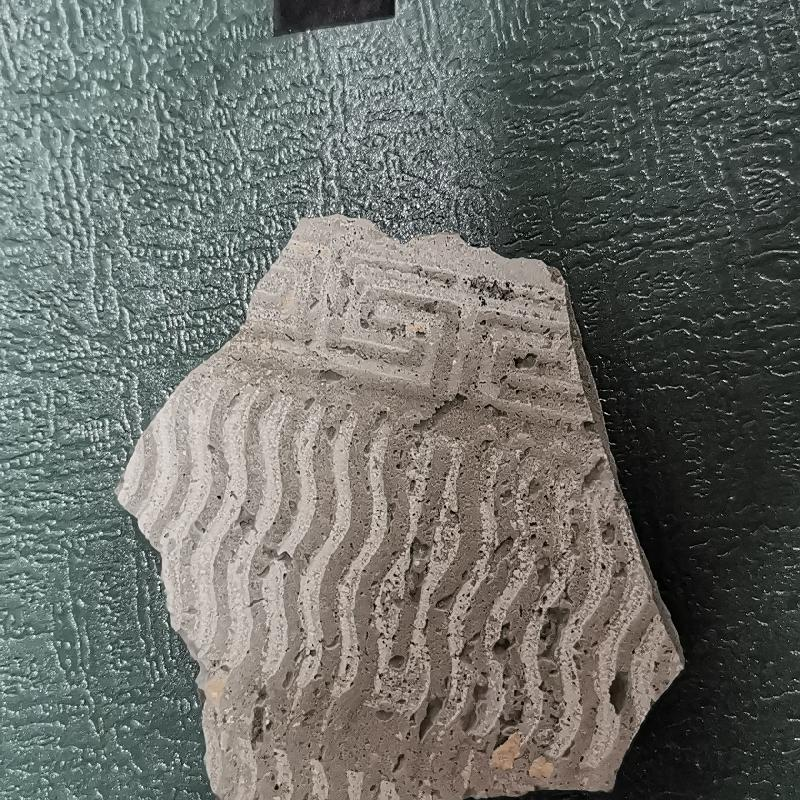tile: (103, 195, 690, 800)
